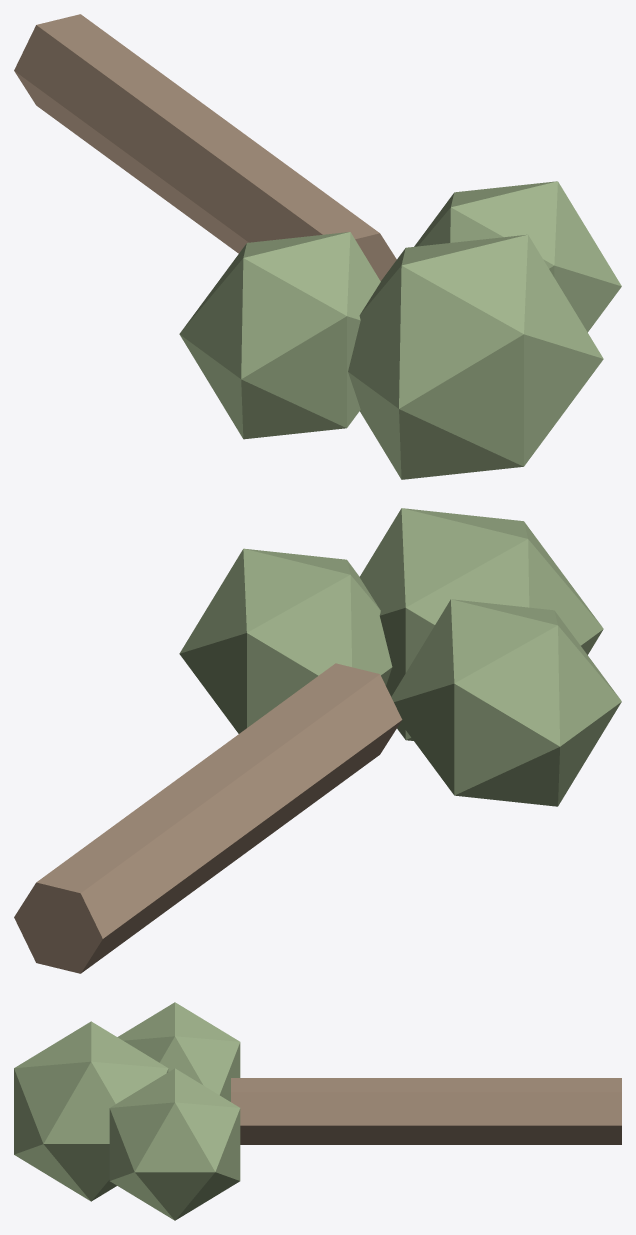
Rendered from maple_tree.glb.
The picture shows the model from 3 angles, top to bottom: view 1: azimuth 30°, elevation 25°; view 2: azimuth 150°, elevation 25°; view 3: azimuth 270°, elevation 25°; orthographic projection. The views are drawn at different scales.
Visible parts, largest first — view 1: world; view 2: world; view 3: world.
Part boxes in pixels (bbox=[...]): world: bbox=[14, 14, 621, 479]; world: bbox=[14, 508, 621, 973]; world: bbox=[14, 1002, 621, 1220].
Bounding box in the file's own units: 1.03 × 0.5529 × 2.18.
